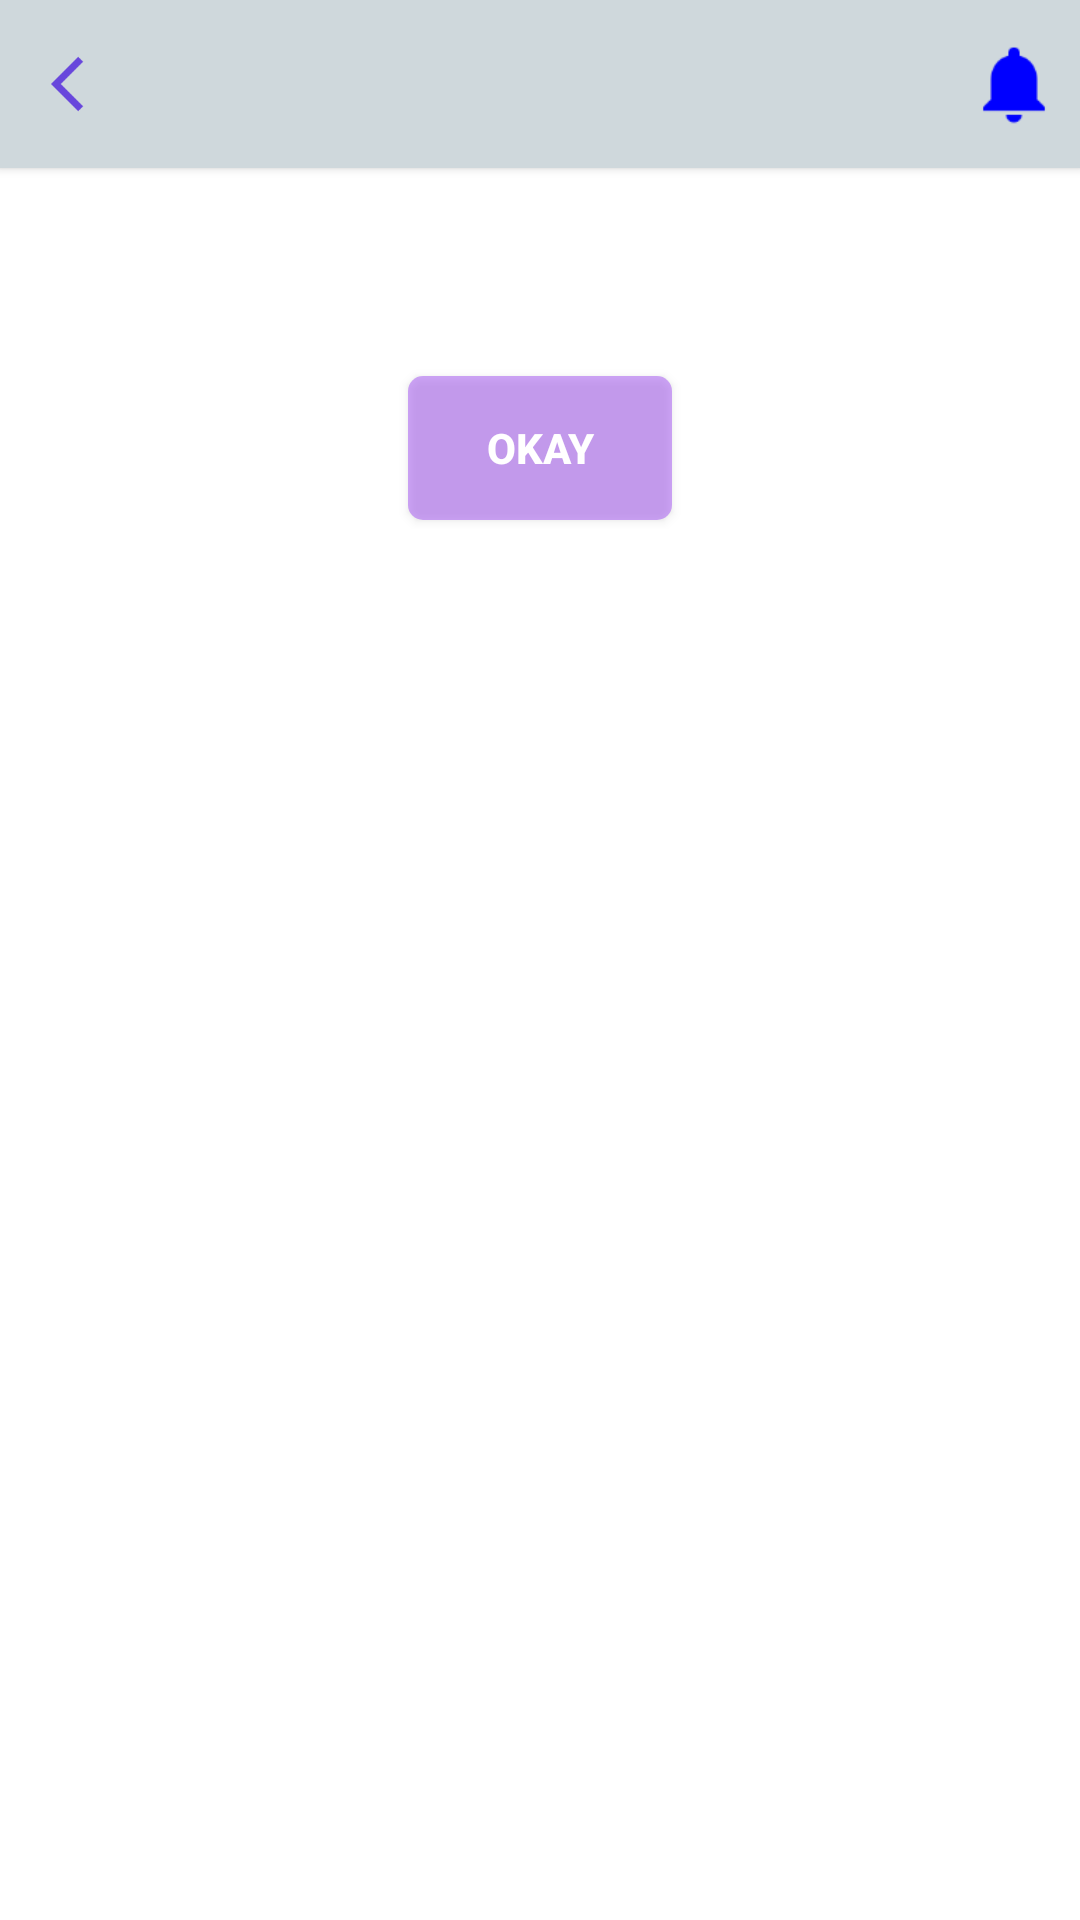

Named icons in this screenshot (1080*1920) and their bounding boxes, region(x1, y1, x2, y2):
arrow back: region(51, 57, 83, 111)
